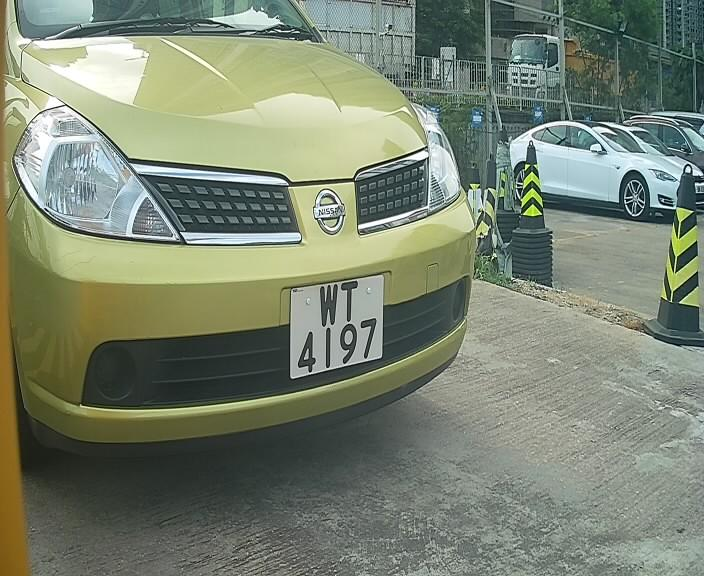License Plate: (277, 263, 397, 386)
